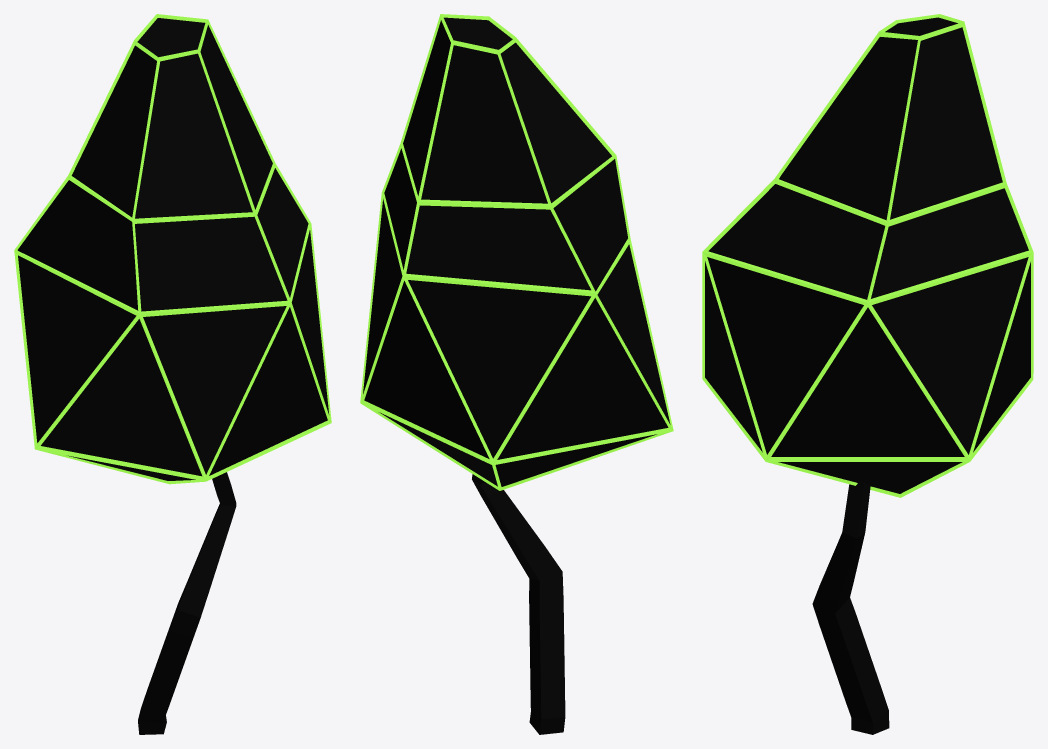
Rendered from Nature_tree_1.glb.
The picture shows the model from 3 angles, left to right: view 1: azimuth 30°, elevation 25°; view 2: azimuth 150°, elevation 25°; view 3: azimuth 270°, elevation 25°; orthographic projection. The views are drawn at different scales.
Visible parts, largest first — view 1: ChiliTree; view 2: ChiliTree; view 3: ChiliTree.
Part boxes in pixels (<box>): ChiliTree: <box>14,14,331,734</box>; ChiliTree: <box>360,14,673,734</box>; ChiliTree: <box>702,14,1033,734</box>.
Bounding box in the file's own units: 1.81 × 4.22 × 1.72.
